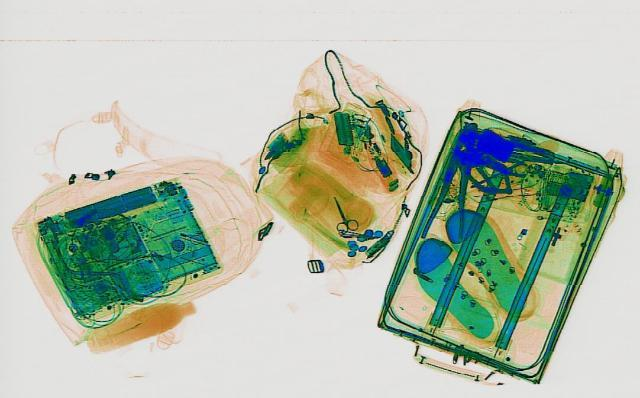Scissors: (324, 193, 358, 231)
